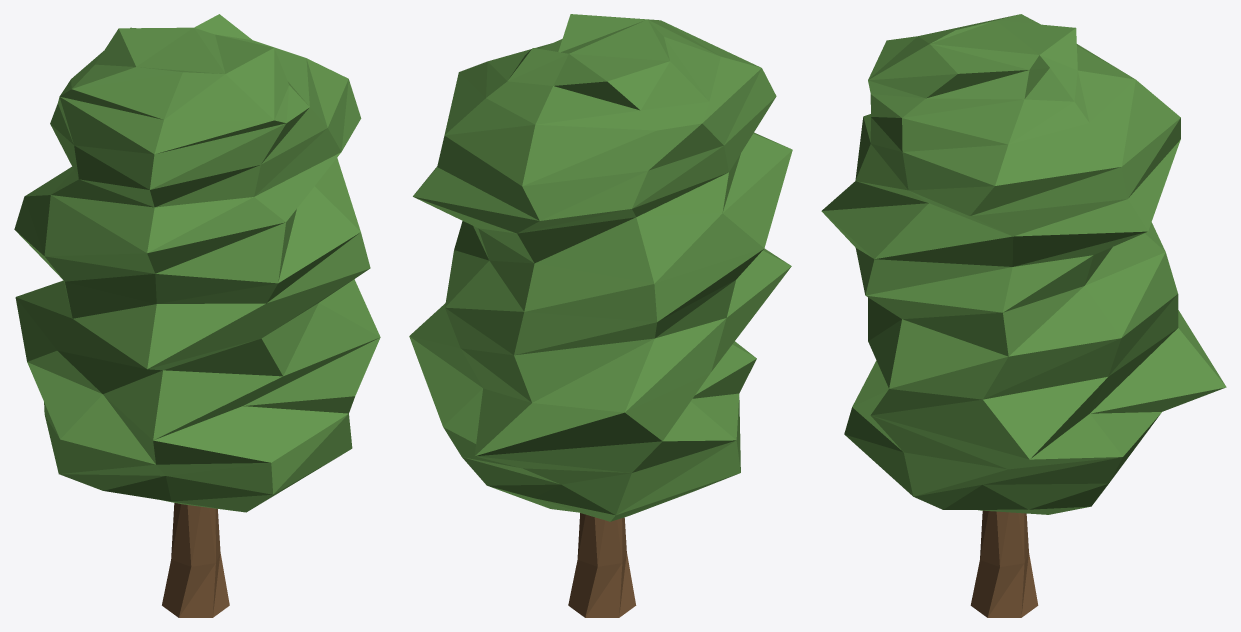
Rendered from tree3d-108.glb.
3 renders of one model, left to right at view 1: azimuth 30°, elevation 25°; view 2: azimuth 150°, elevation 25°; view 3: azimuth 270°, elevation 25°, orthographic.
Parts seen in each view (by area): view 1: tree3d-108; view 2: tree3d-108; view 3: tree3d-108.
Part boxes in pixels (x1=…): tree3d-108: x1=14, y1=14, x2=380, y2=617; tree3d-108: x1=409, y1=14, x2=792, y2=617; tree3d-108: x1=821, y1=14, x2=1226, y2=617.
Bounding box in the file's own units: 0.6265 × 1 × 0.6557.
